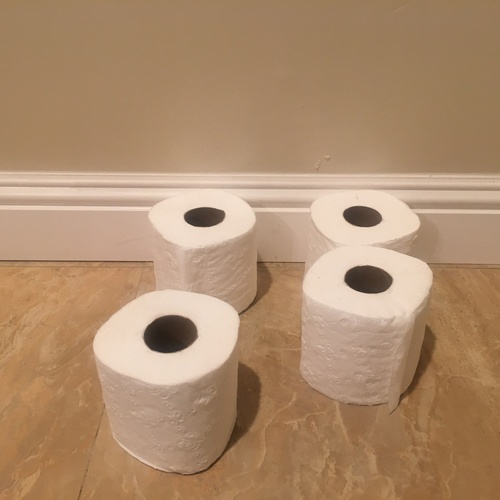roll: (93, 290, 240, 471), (300, 245, 433, 405), (149, 191, 258, 314), (306, 191, 421, 274)
